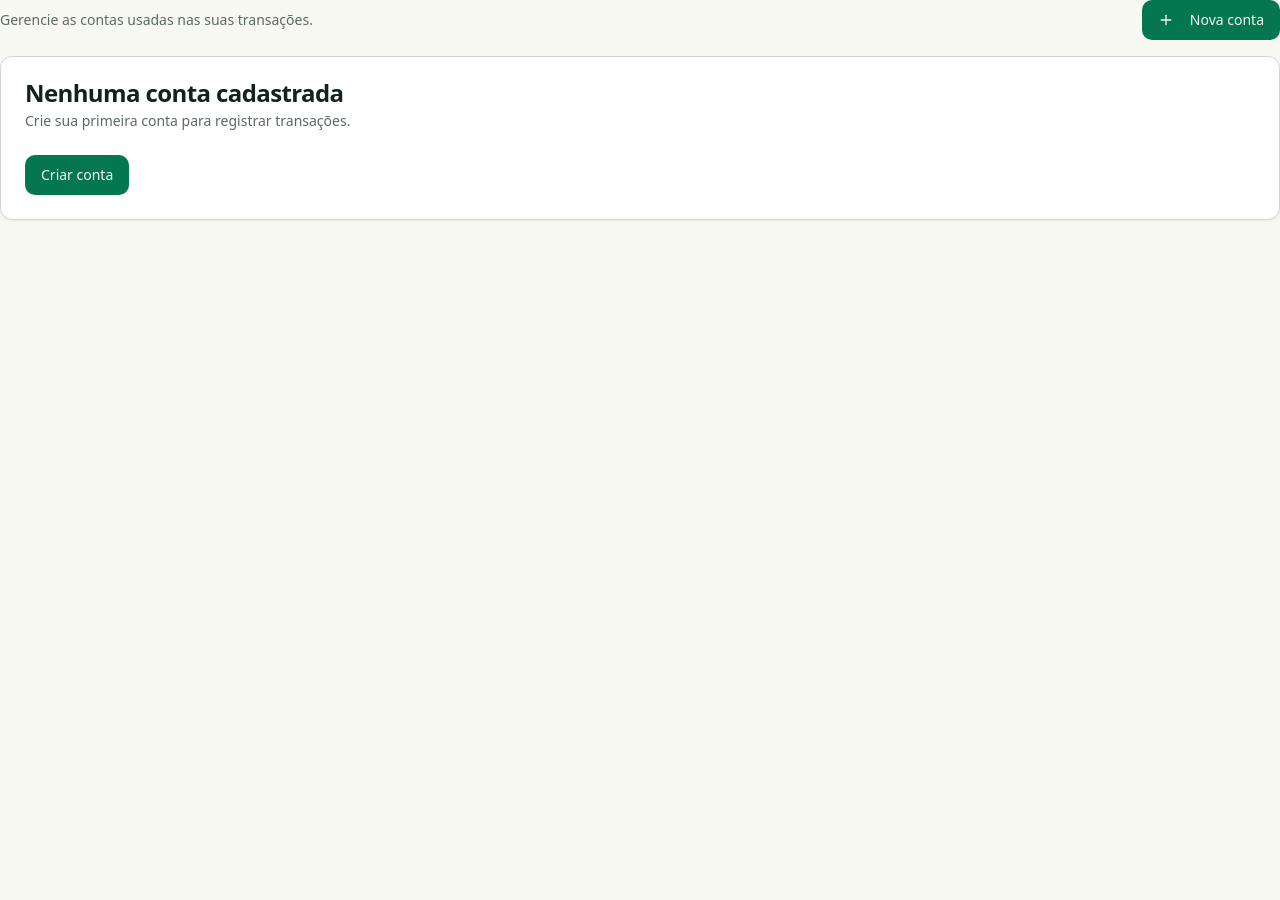
AccountsManager › opens the account form from the empty state
Note: The user starts the first account creation.
What coordinates should you click on to do the following:
click the button "Criar conta"
I would click on:
 (77, 175)
Its box is [25,155,129,195].
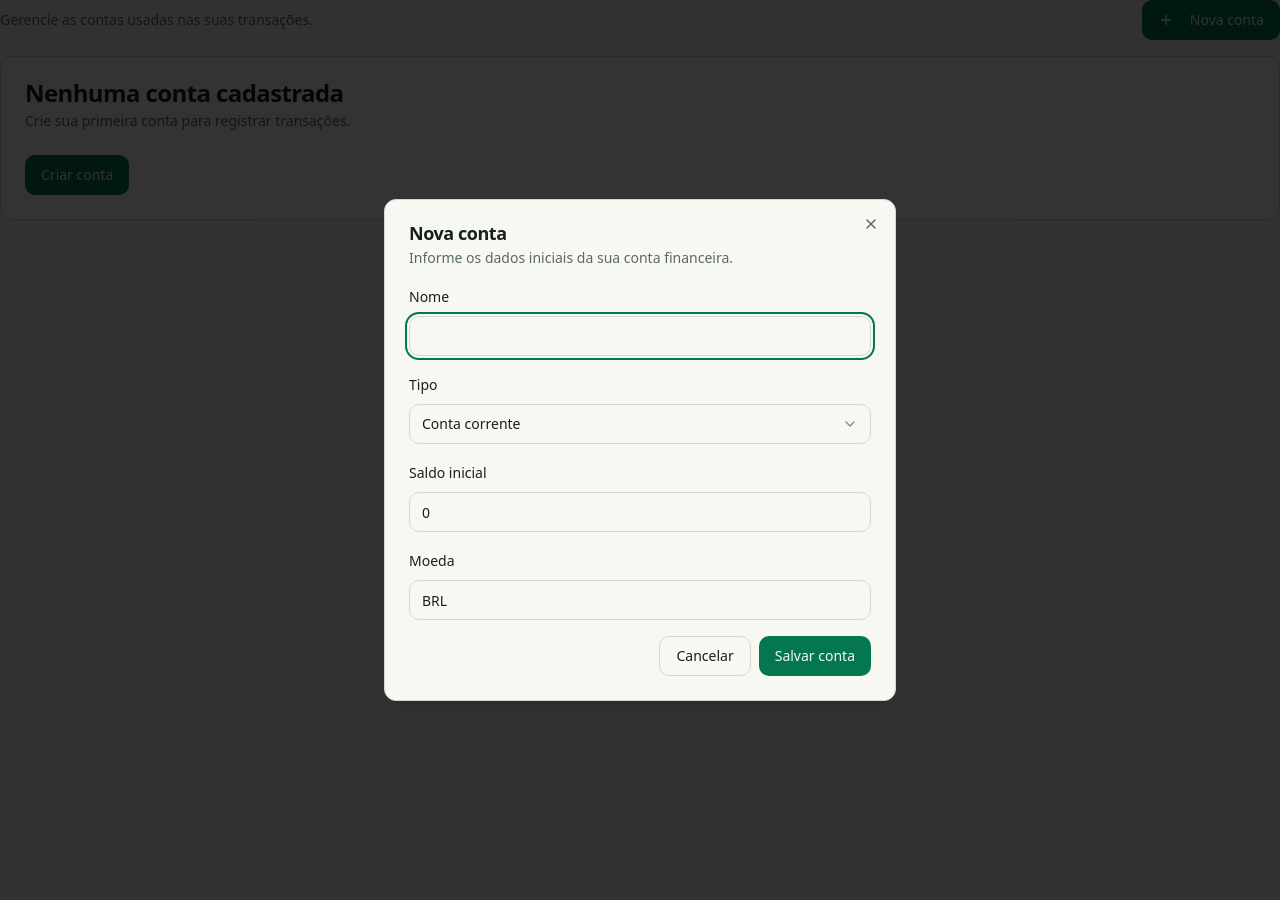
Check: the dialog is shown, box [384,199,896,701]
Check: the number field labelled "Saldo inicial" holds "0", box [409,492,871,532]
Check: the button "Salvar conta" is enabled, box [759,636,871,676]
